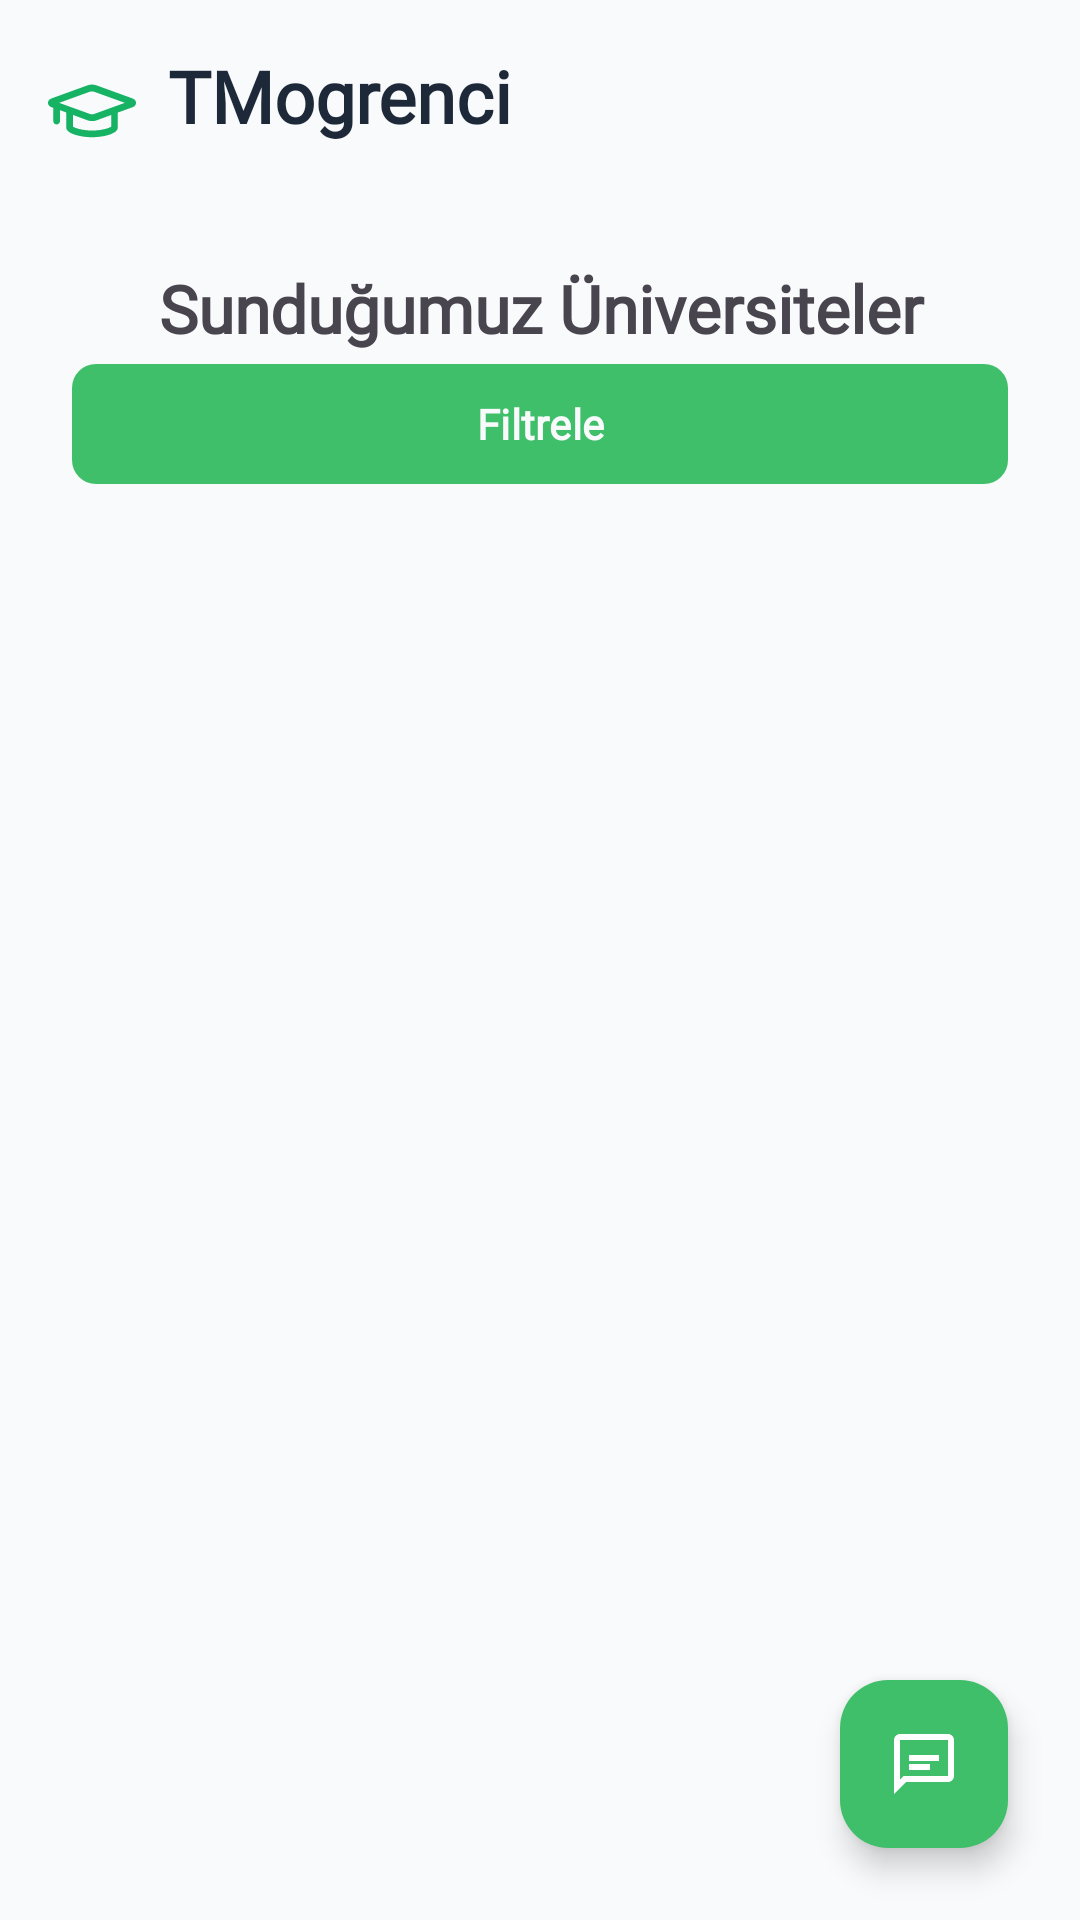

Where to tap for icons on this 1080px×1920px app screen, as (x=x, y=y):
Canlı Destek: (x=924, y=1764)
